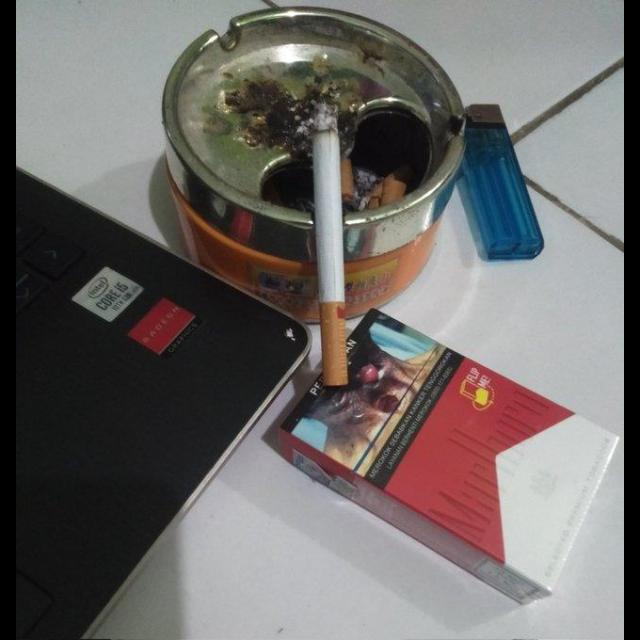rokok: (302, 110, 358, 394)
